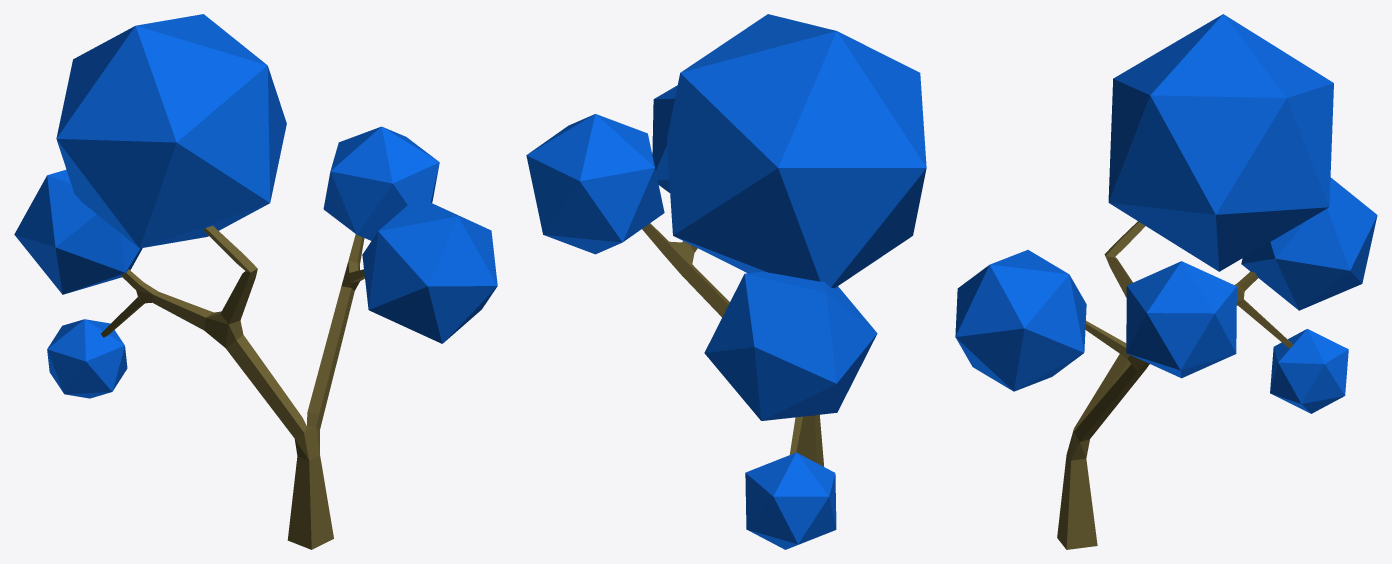
File: PohonWarnaBiru.fbx
3 views of the same model, side by side, from view 1: azimuth 30°, elevation 25°; view 2: azimuth 150°, elevation 25°; view 3: azimuth 270°, elevation 25° (orthographic). The views are drawn at different scales.
Visible parts, largest first — view 1: Icosphere.010; view 2: Icosphere.010; view 3: Icosphere.010.
Part boxes in pixels (x1,y1,x2,y2): Icosphere.010: (14, 14, 497, 549); Icosphere.010: (526, 14, 926, 549); Icosphere.010: (955, 14, 1377, 549).
Size of the model in its own units: 858 by 1126 by 898.
